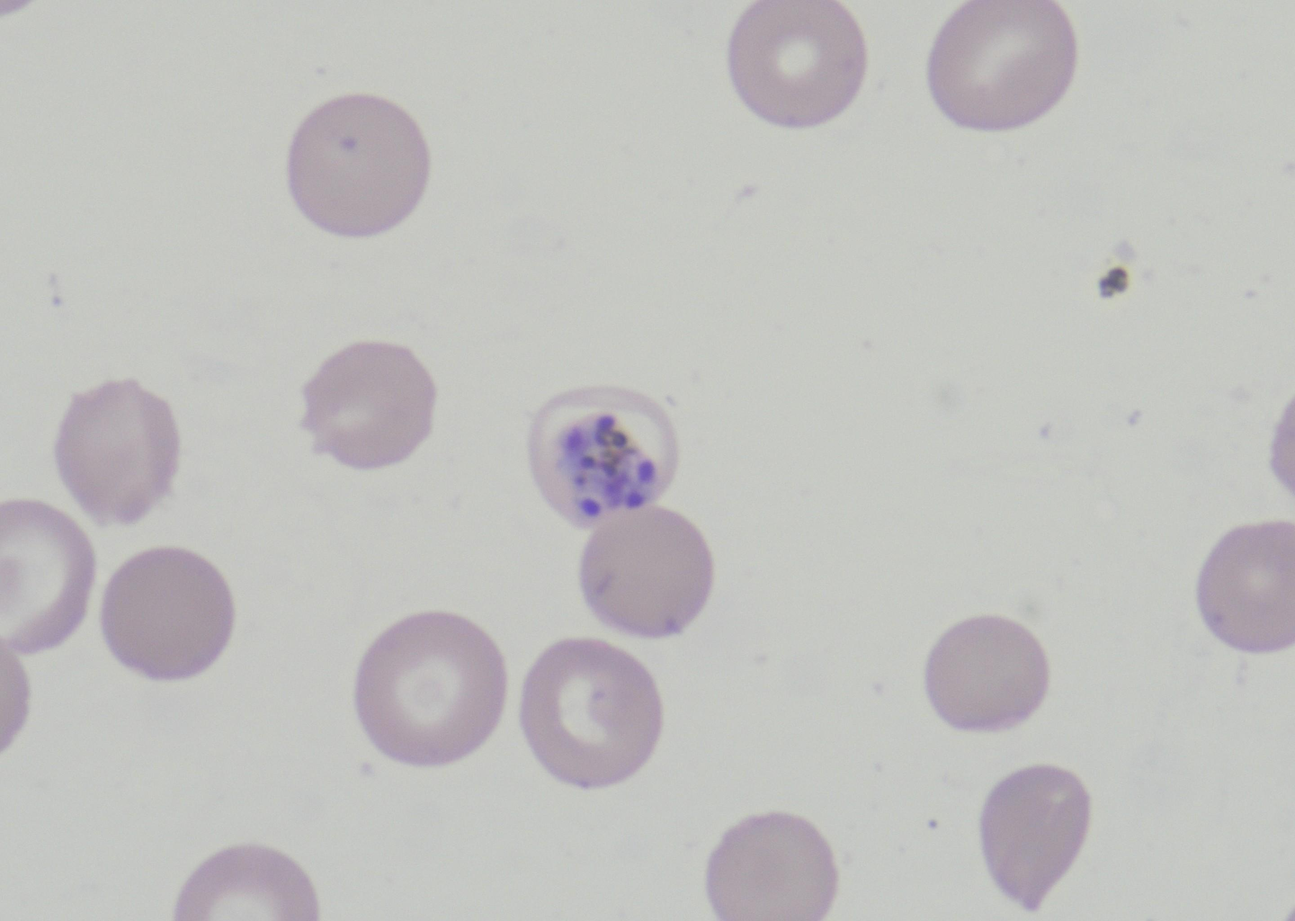Infected: (529, 386, 676, 526)
Uninfected: (354, 613, 507, 766), (520, 639, 661, 787), (926, 1, 1076, 130), (283, 100, 423, 236), (100, 547, 235, 680), (54, 380, 179, 523), (579, 508, 710, 638), (299, 343, 432, 469), (735, 0, 863, 128), (979, 766, 1091, 911), (924, 617, 1049, 732), (2, 502, 97, 651), (706, 814, 836, 920), (1198, 523, 1295, 649), (174, 845, 314, 919)
